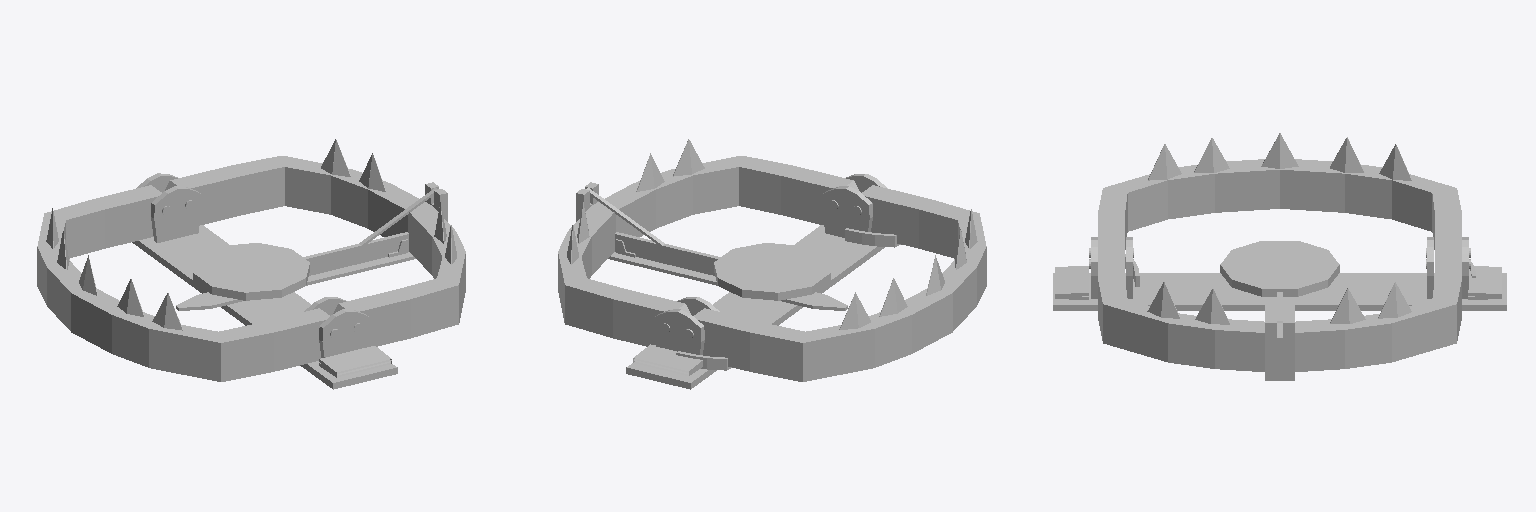
The model's file is bear_trap.obj.
3 views of the same model, side by side, from view 1: azimuth 30°, elevation 25°; view 2: azimuth 150°, elevation 25°; view 3: azimuth 270°, elevation 25° (orthographic).
Visible parts, largest first — view 1: Trap; view 2: Trap; view 3: Trap.
Boxes of the visible parts, x1=… form: Trap: x1=37, y1=139, x2=465, y2=389; Trap: x1=558, y1=139, x2=986, y2=389; Trap: x1=1053, y1=133, x2=1506, y2=380.
Size of the model in its own units: 2.98 by 0.6436 by 3.17.